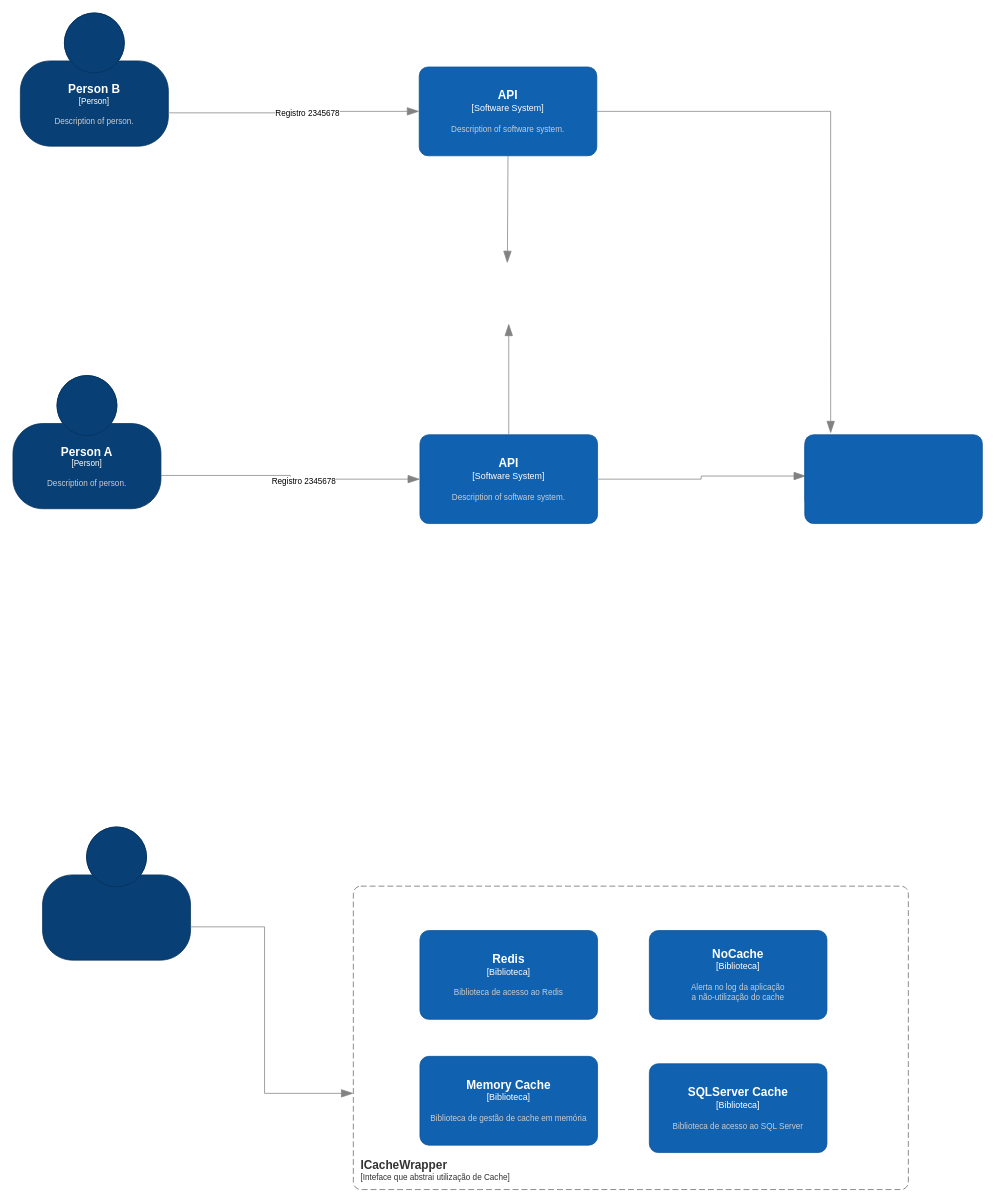
The diagram is 995 pixels wide and 1203 high, and some of its shapes have lost their labels. Here are the shapes that lost their labels. From the top down, the centre of each, then its label:
At (x=893, y=479): "API de 3ºs [Software System] Description of software system.".
At (x=116, y=893): "Person name [Person] Description of person.".
